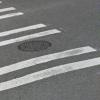Crosswalk: (4, 8, 75, 100)
